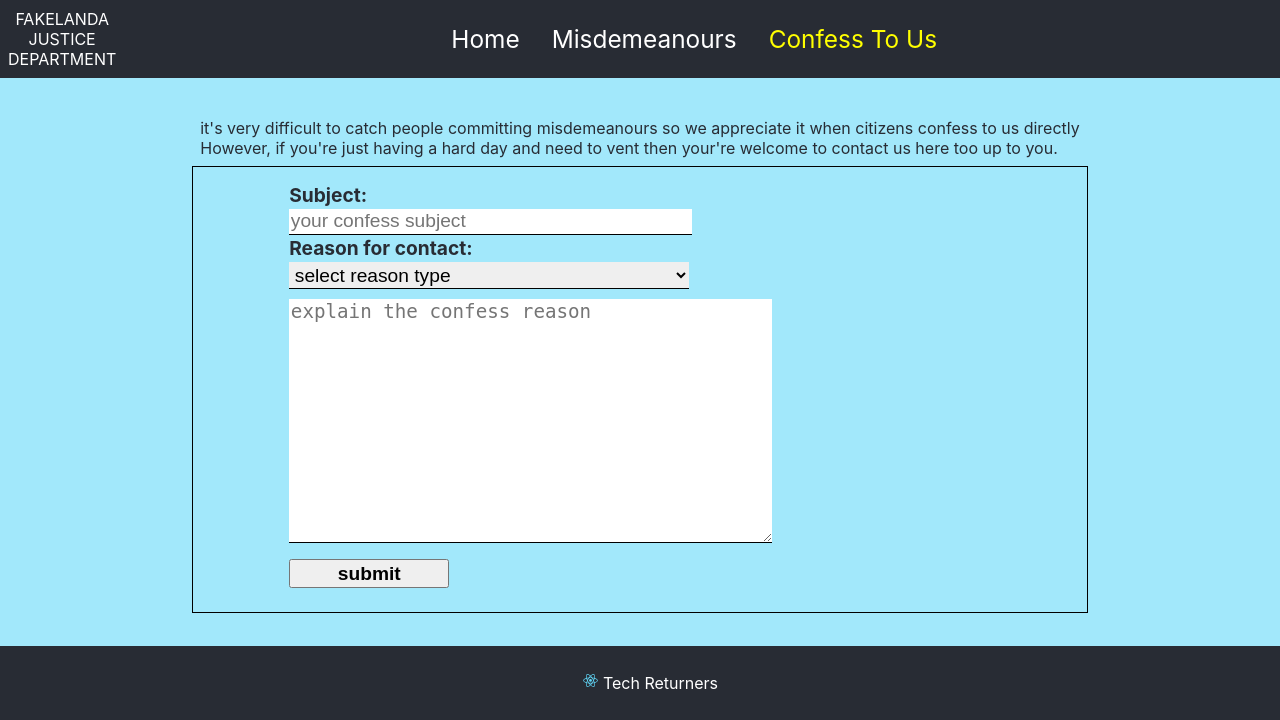
Scenario: renders check Misdemeanours page after click Misdemeanours hyperlink
Click the link labelled "Misdemeanours". click: (644, 39)
box: left=552, top=24, right=737, bottom=54
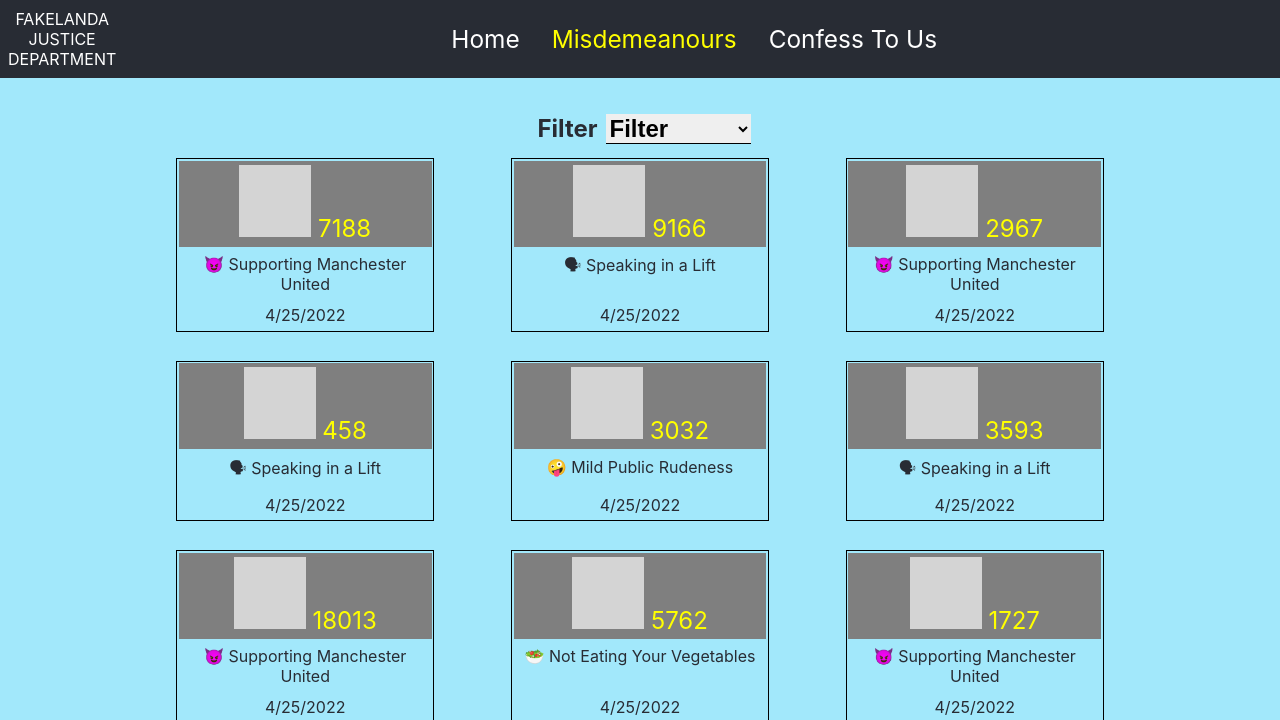
Now the dropdown named "MDFilter" is shown, box left=606, top=114, right=750, bottom=144
